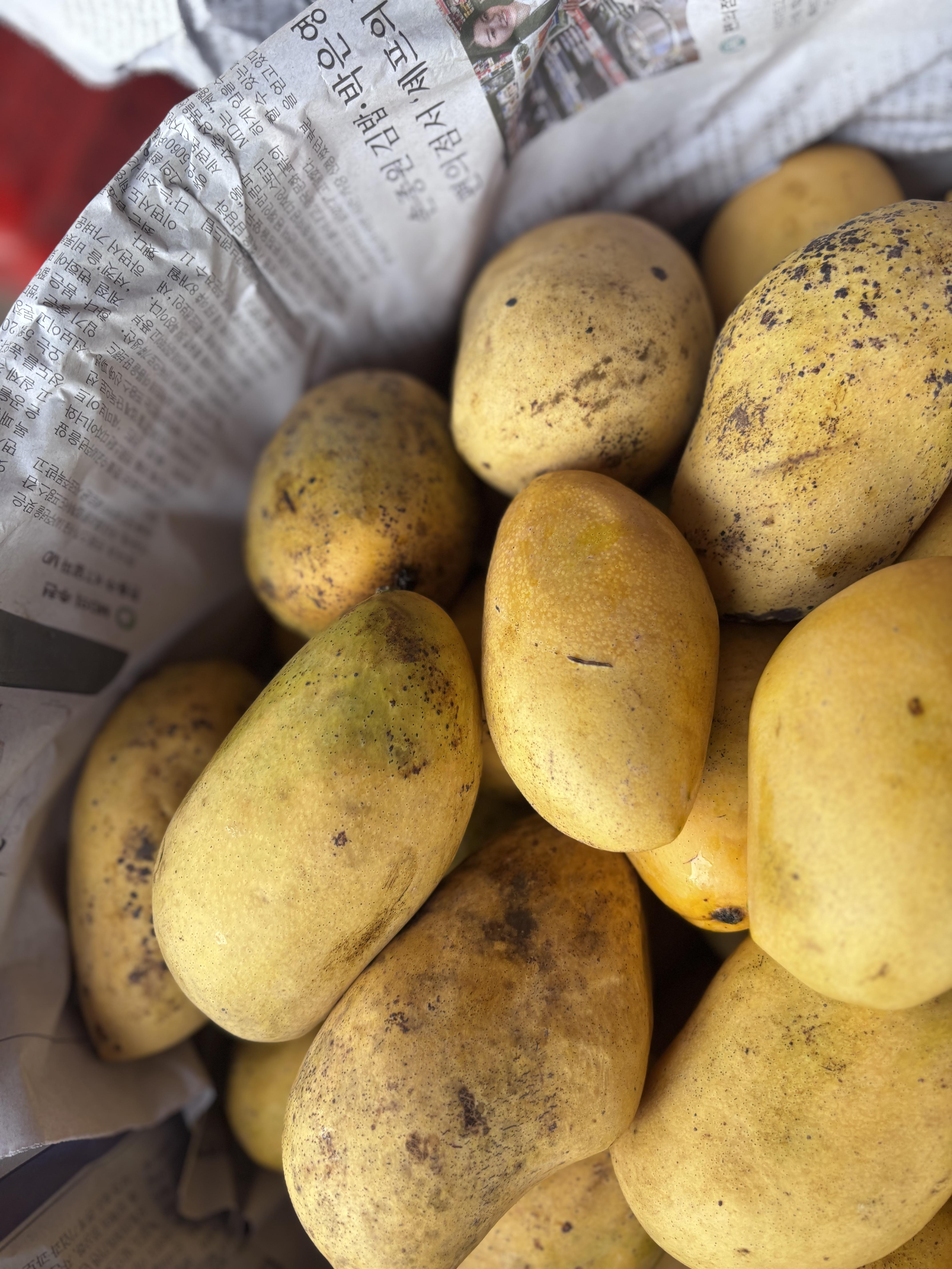mango: (153, 591, 481, 1041), (483, 471, 718, 853)
occluded: (284, 816, 652, 1269), (671, 201, 952, 620), (613, 938, 952, 1269), (748, 557, 952, 1009), (68, 660, 259, 1062), (452, 213, 714, 494), (245, 370, 477, 636)
